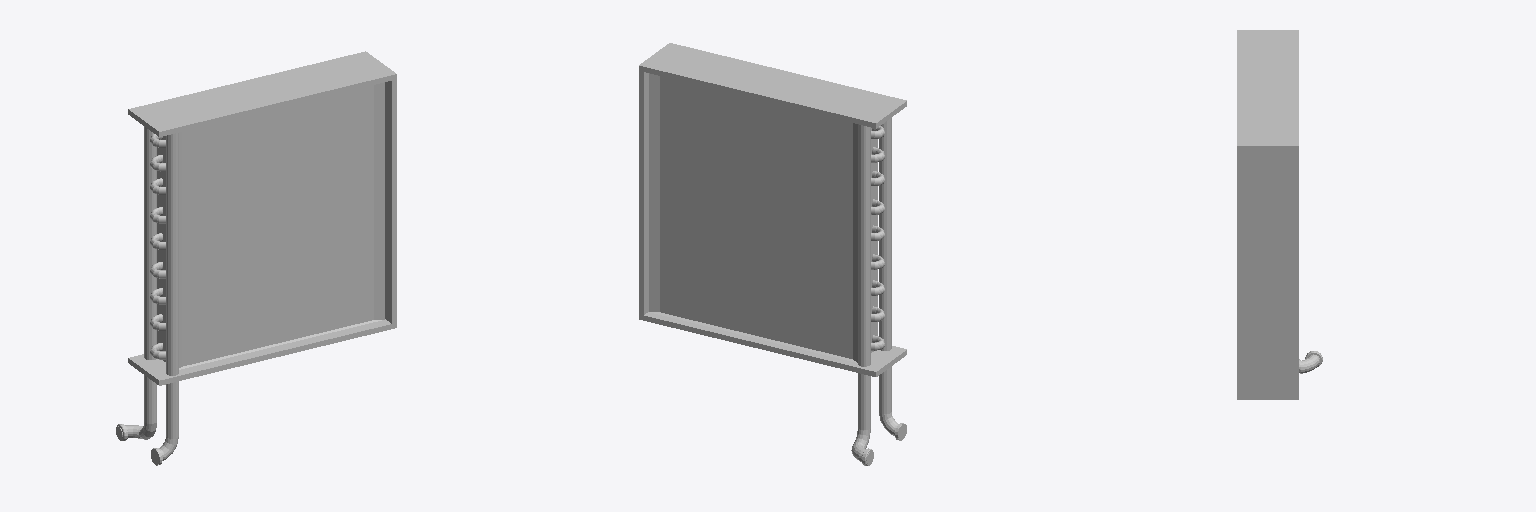
Rendered from HeatingCoil.obj.
The picture shows the model from 3 angles: view 1: azimuth 30°, elevation 25°; view 2: azimuth 150°, elevation 25°; view 3: azimuth 270°, elevation 25°; orthographic projection.
Parts seen in each view (by area): view 1: HeatingCoil.obj; view 2: HeatingCoil.obj; view 3: HeatingCoil.obj.
Part boxes in pixels (left/top/right/bottom): HeatingCoil.obj: left=116, top=51, right=396, bottom=465; HeatingCoil.obj: left=639, top=43, right=906, bottom=465; HeatingCoil.obj: left=1237, top=30, right=1322, bottom=399.
Bounding box in the file's own units: 1.22 × 1.64 × 0.3777.